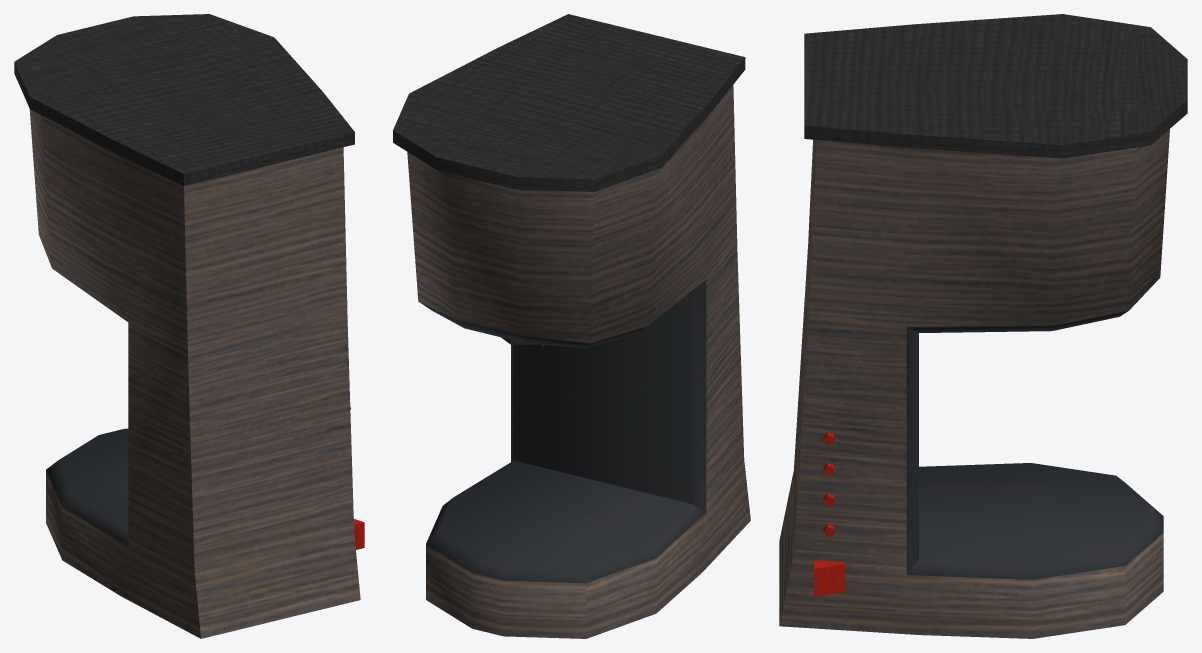
File: Coffee_maker-col.glb
3 renders of one model, left to right at view 1: azimuth 30°, elevation 25°; view 2: azimuth 150°, elevation 25°; view 3: azimuth 270°, elevation 25°, orthographic. The views are drawn at different scales.
Parts seen in each view (by area): view 1: Coffee_maker-col; view 2: Coffee_maker-col; view 3: Coffee_maker-col.
Part boxes in pixels (x1,y1,x2,y2): Coffee_maker-col: (14,14,364,638); Coffee_maker-col: (393,14,750,638); Coffee_maker-col: (779,14,1187,638).
Size of the model in its own units: 0.3522 by 0.6307 by 0.4629.
4 materials, 4 textured.
